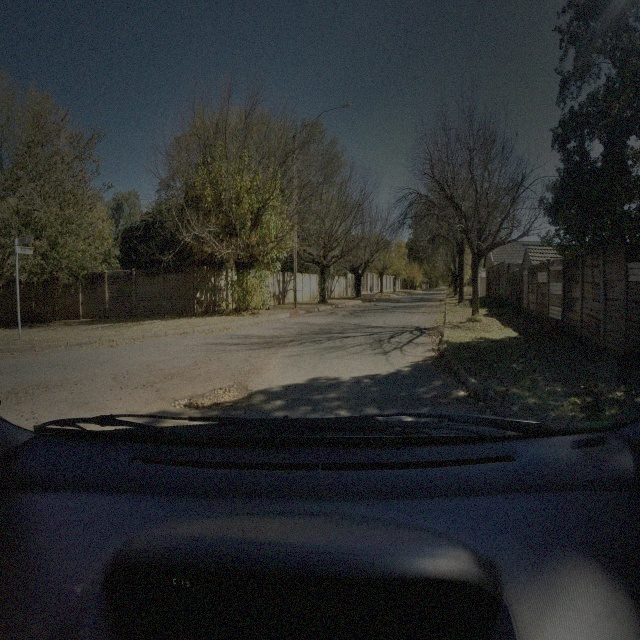pothole: (176, 378, 252, 414)
